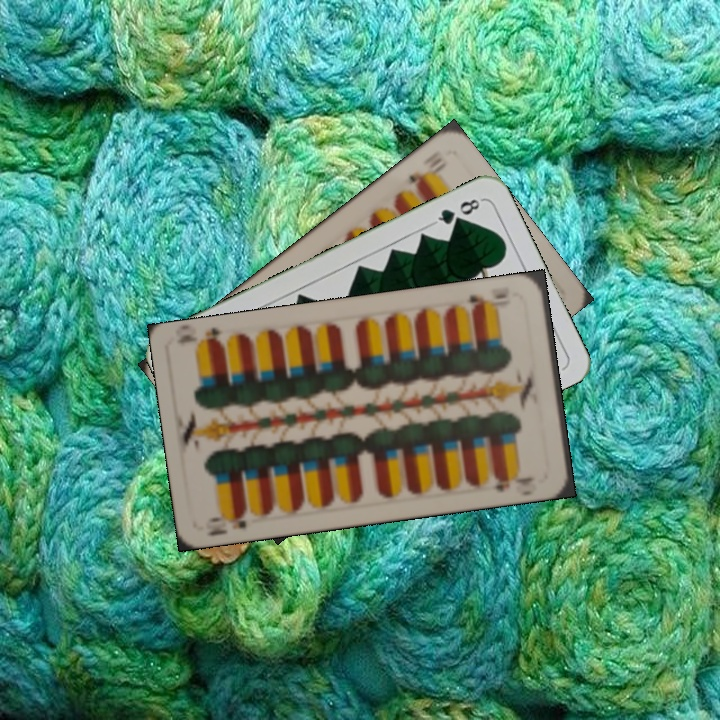E10: (201, 506, 250, 539), (404, 153, 445, 190), (465, 289, 513, 314)
G8: (430, 194, 485, 228)
